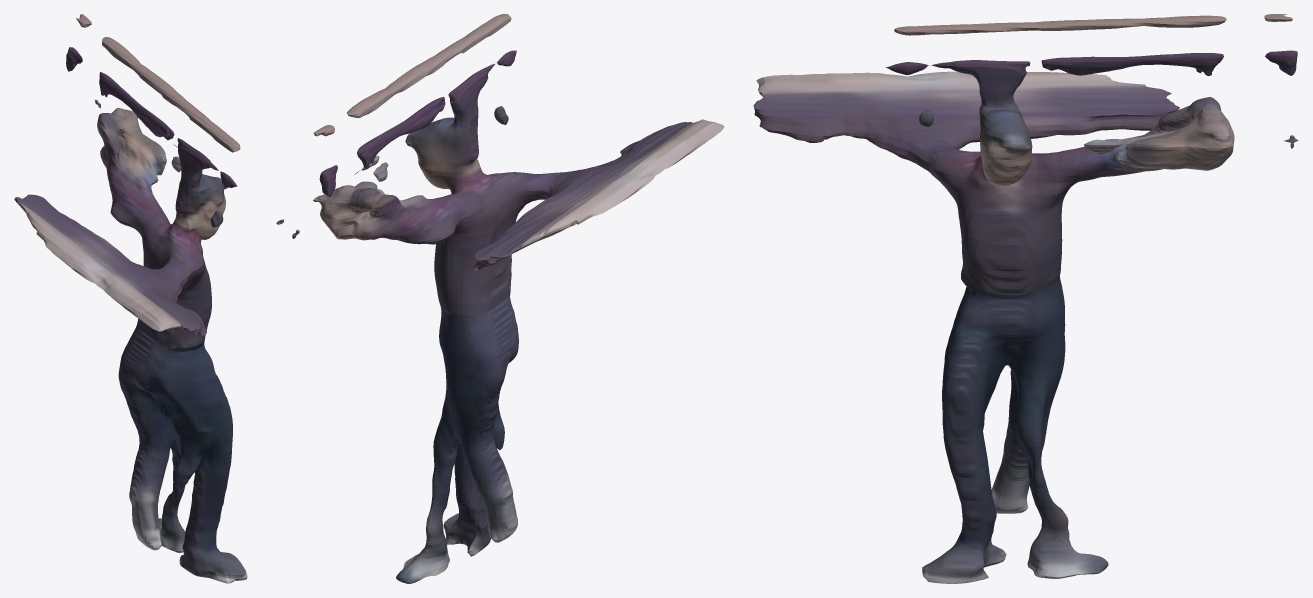
The model's file is 0044_tex.glb.
The picture shows the model from 3 angles, left to right: view 1: azimuth 30°, elevation 25°; view 2: azimuth 150°, elevation 25°; view 3: azimuth 270°, elevation 25°; orthographic projection. The views are drawn at different scales.
Parts seen in each view (by area): view 1: 0044_tex.obj; view 2: 0044_tex.obj; view 3: 0044_tex.obj.
Part boxes in pixels (left/top/right/bottom): 0044_tex.obj: left=14, top=14, right=247, bottom=583; 0044_tex.obj: left=276, top=14, right=724, bottom=583; 0044_tex.obj: left=753, top=14, right=1298, bottom=583.
Size of the model in its own units: 0.3678 by 0.9004 by 0.7974.
